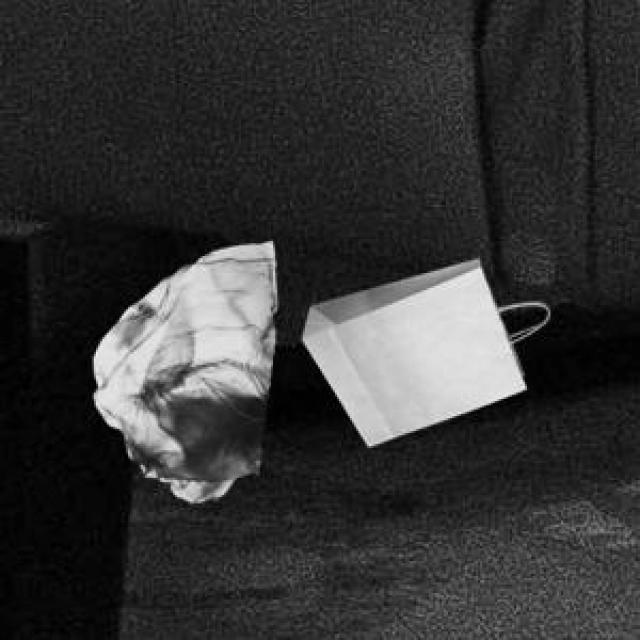paper: (299, 256, 521, 442)
